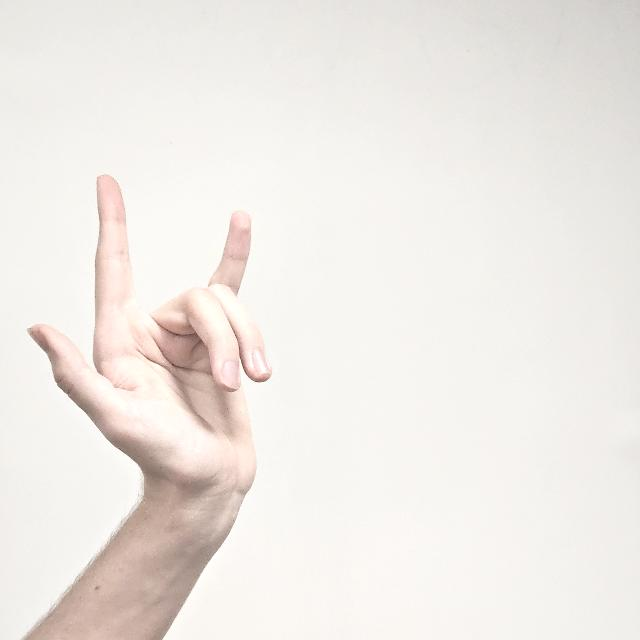Cima: (28, 170, 272, 508)
